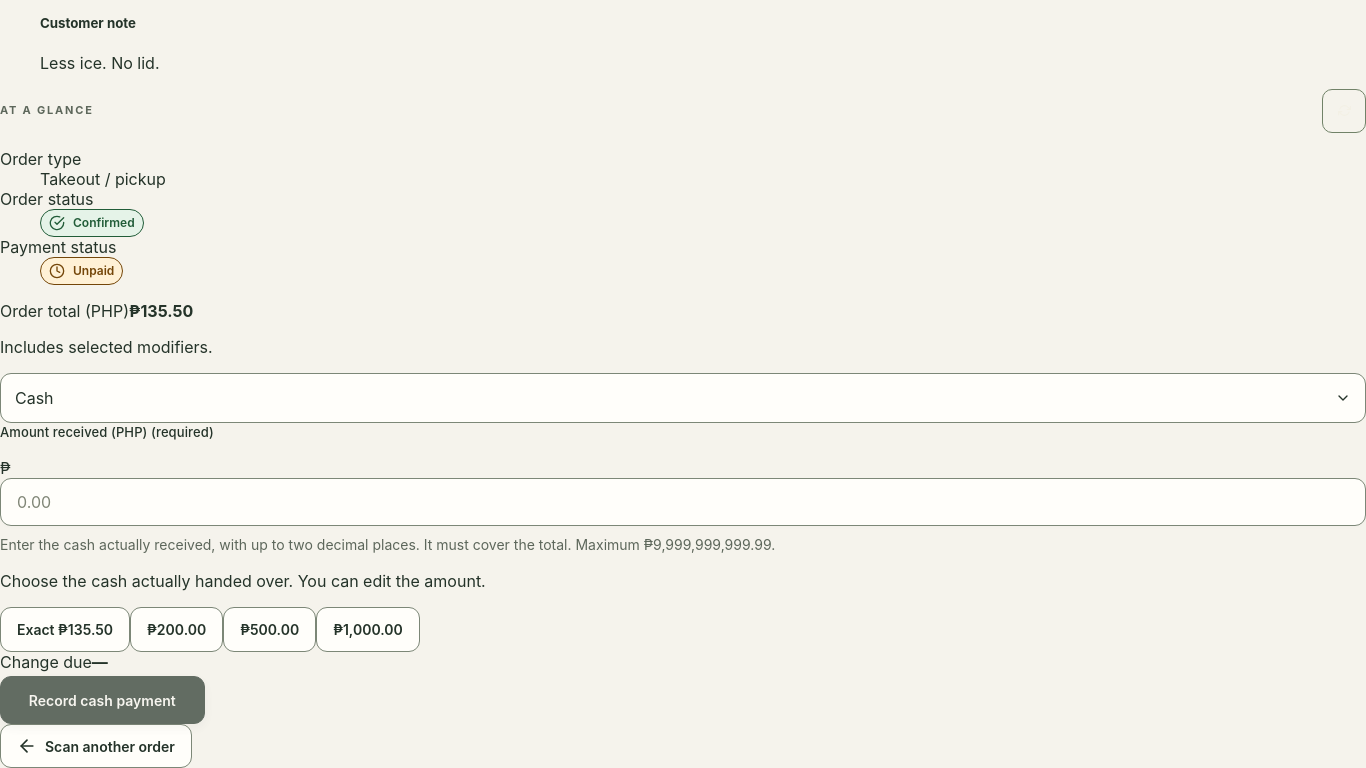
Test: sends one payment operation when its confirmation is double-clicked
This screenshot has width=1366, height=768.
(page scrolled)
Type "200" into the field labelled "Amount received (PHP)" at [683, 502], box [0, 478, 1365, 526]
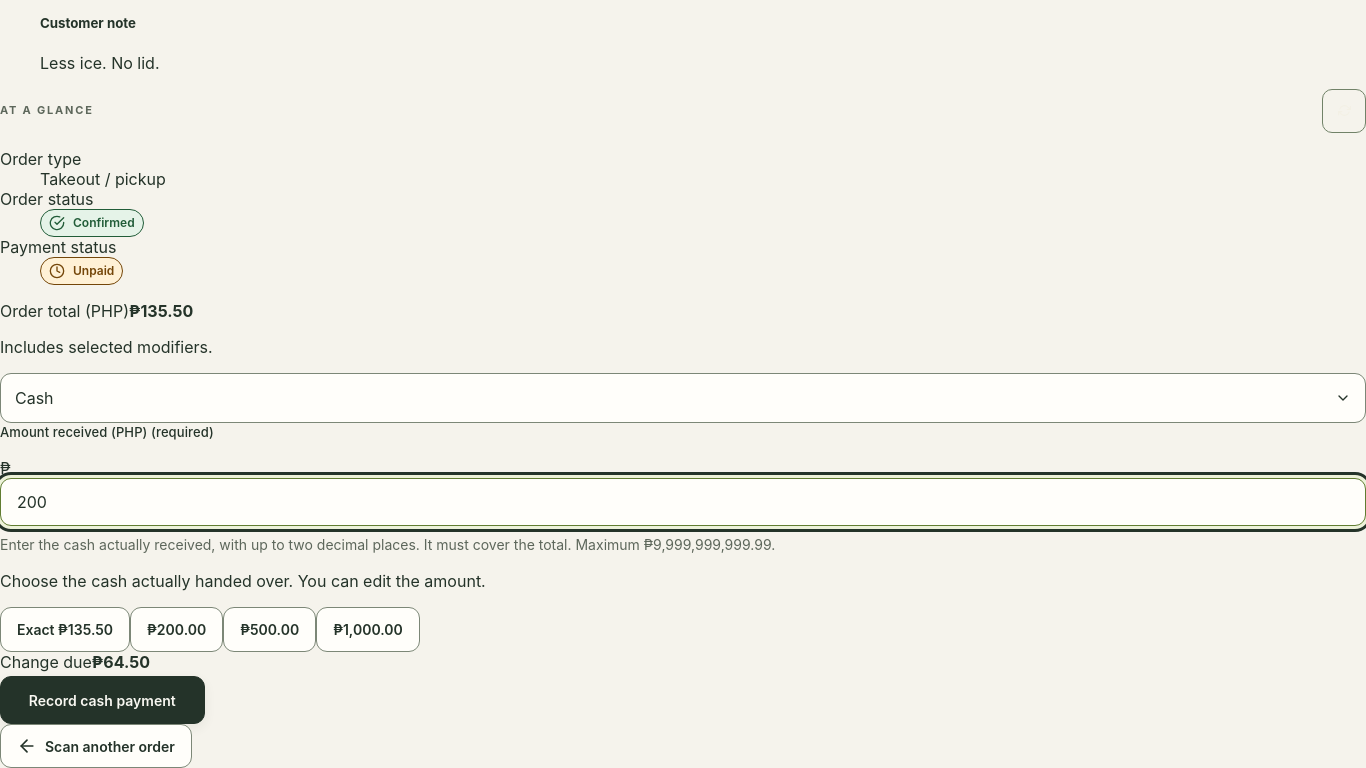
Click the button "Record cash payment" at [102, 700], box [0, 676, 204, 724]
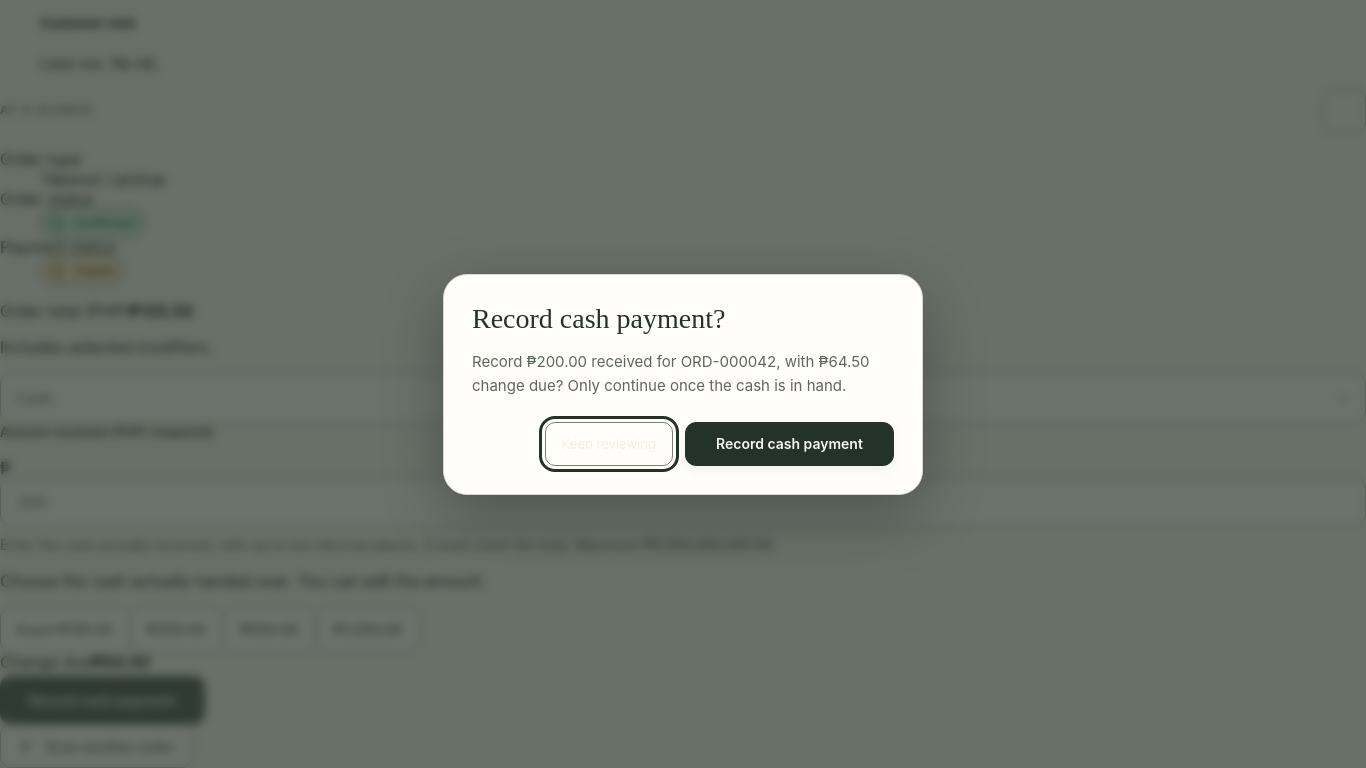
Double-click the button "Record cash payment" at [789, 444], box [685, 422, 894, 466]
(page scrolled)
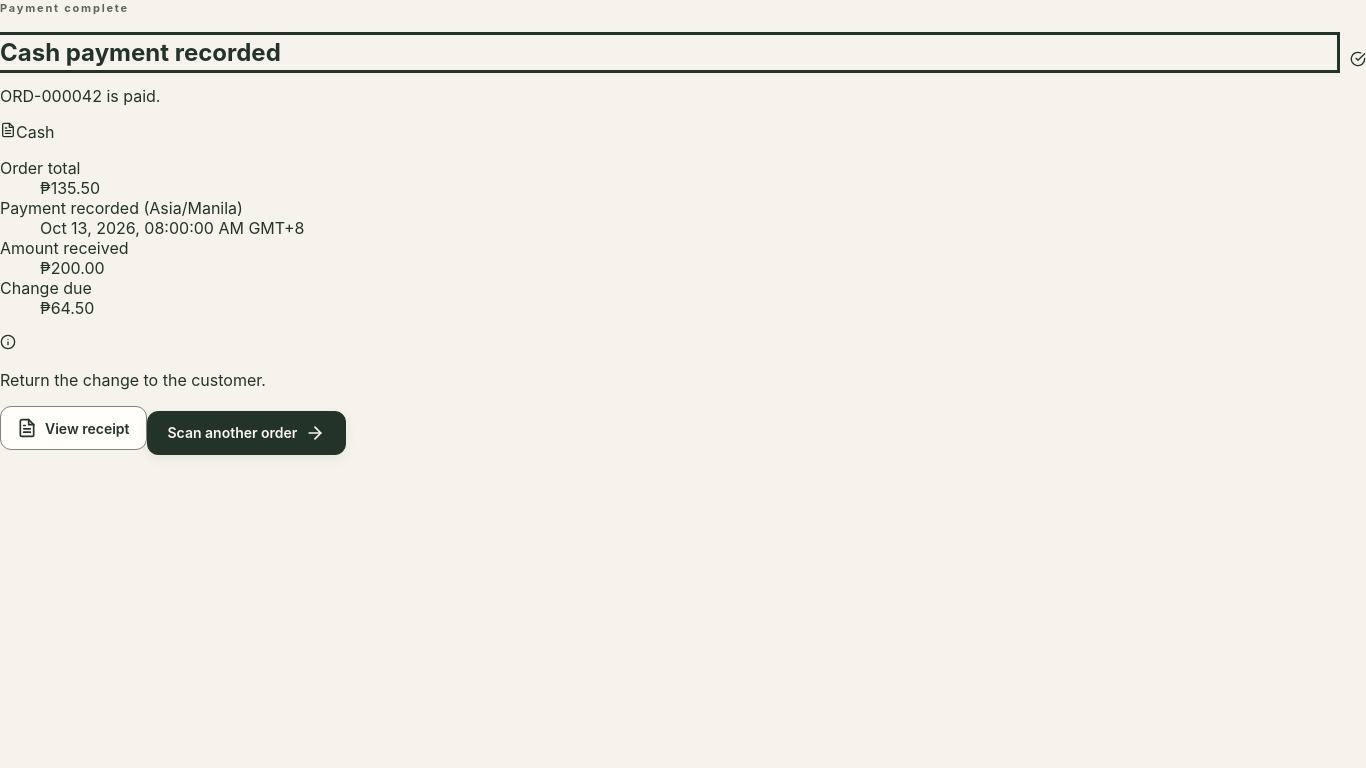
Now the button "View receipt" is enabled, box [0, 406, 146, 450]
